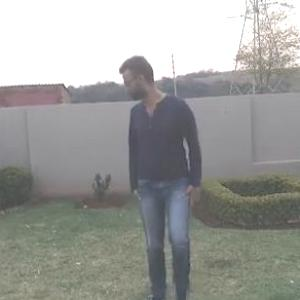follow: (122, 44, 204, 289)
